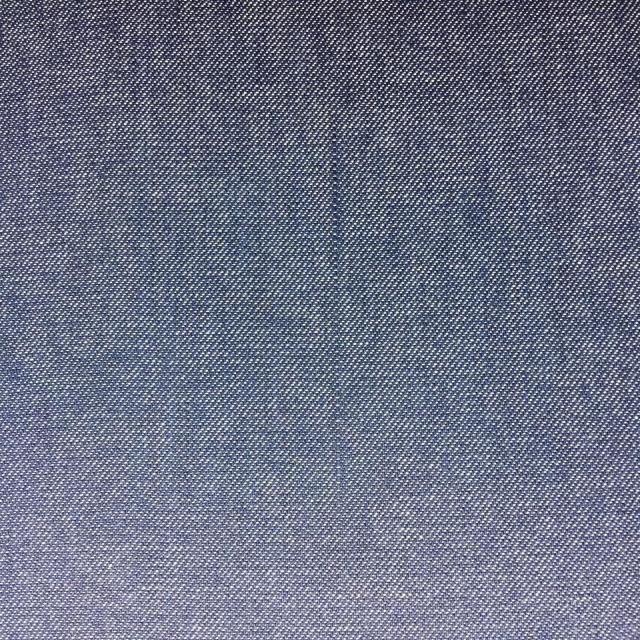Line: (325, 113, 344, 499)
